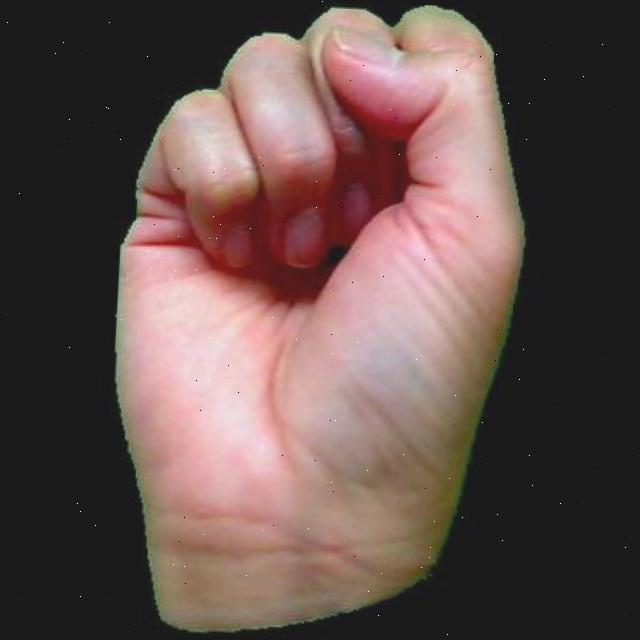s: (82, 0, 552, 640)
